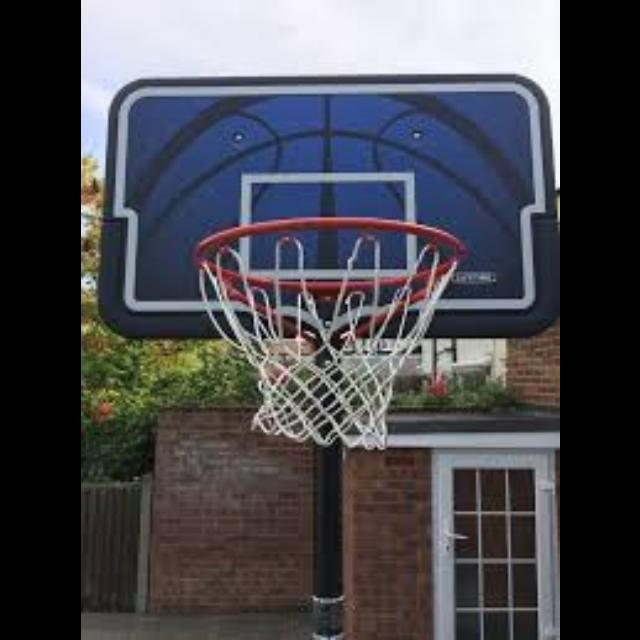rim: (194, 218, 462, 450)
